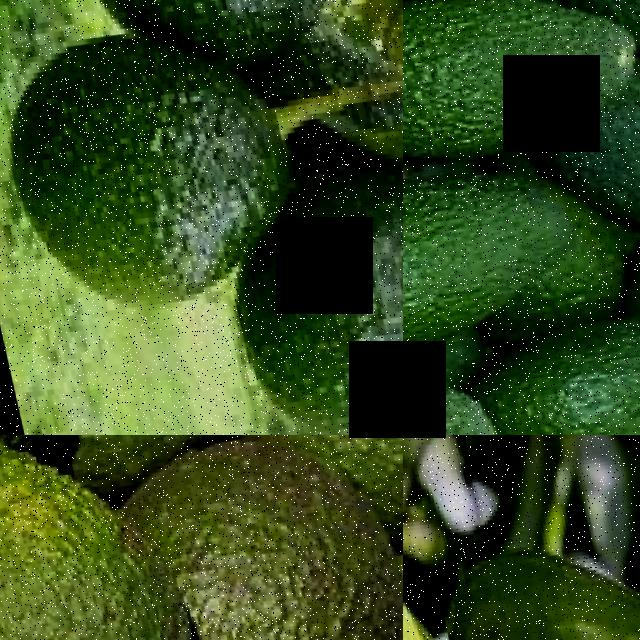avocado: (0, 0, 309, 316), (183, 106, 403, 435), (65, 435, 403, 640), (0, 435, 212, 640), (403, 159, 618, 360), (403, 0, 640, 176), (442, 293, 640, 435), (416, 536, 640, 640), (21, 0, 341, 71), (543, 49, 640, 277), (403, 517, 494, 640), (40, 435, 232, 487)
